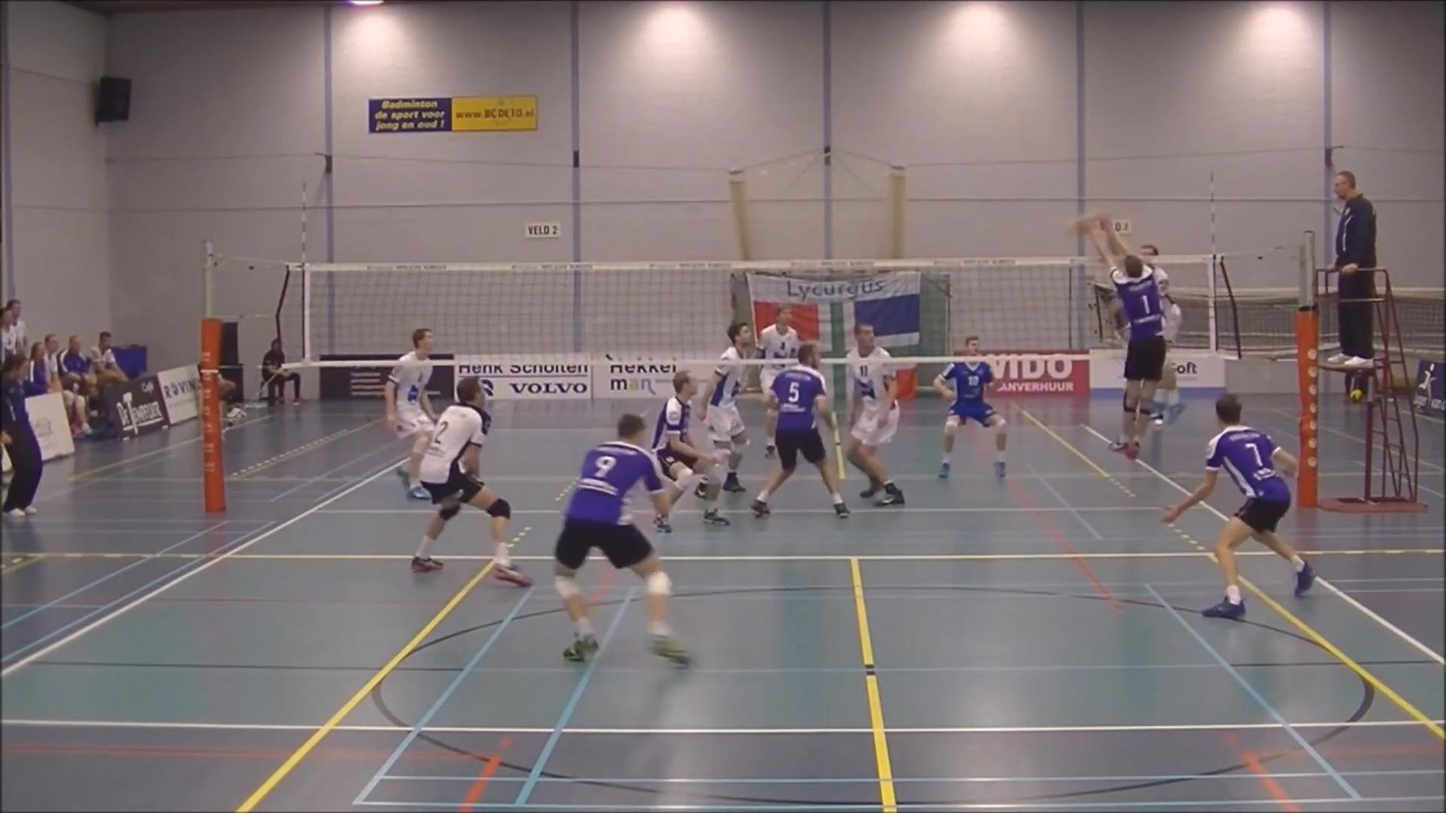Attack: (1132, 231, 1191, 430)
Block: (1062, 208, 1184, 461)
Player: (1164, 394, 1314, 619), (411, 378, 532, 586), (751, 343, 849, 517), (653, 370, 730, 525), (846, 324, 904, 505), (934, 336, 1005, 478), (699, 322, 752, 492), (384, 327, 435, 499), (756, 306, 800, 402)
ball: (553, 408, 702, 672), (1067, 211, 1098, 244)
